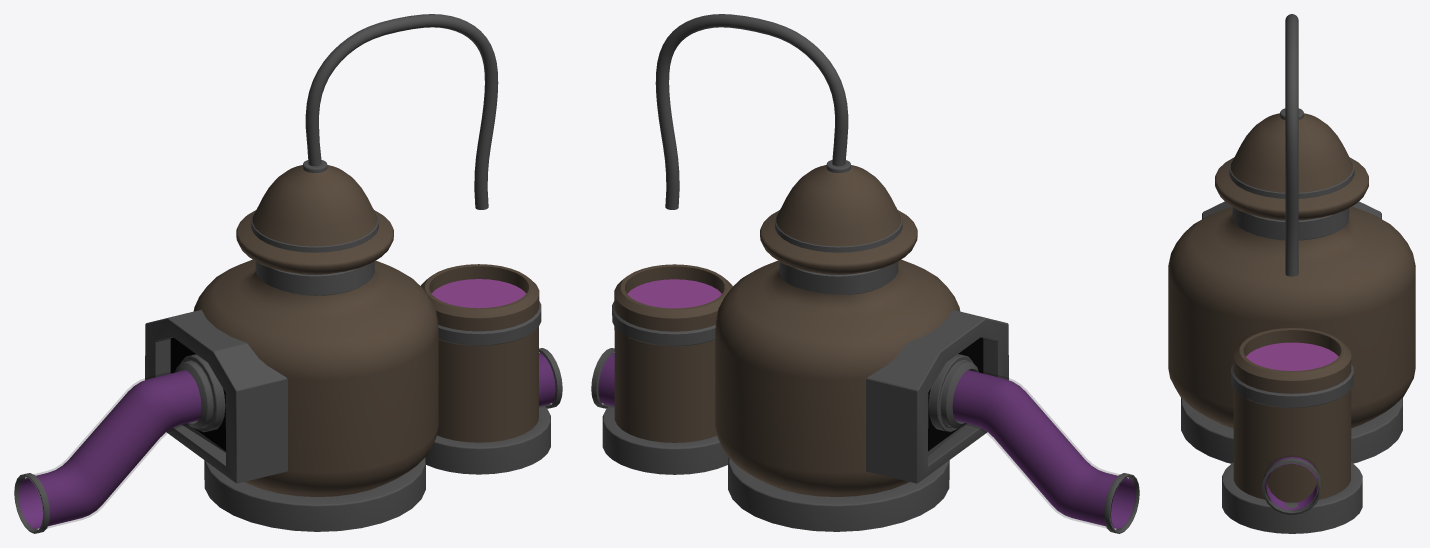
The model's file is Distiller.fbx.
3 views of the same model, side by side, from view 1: azimuth 30°, elevation 25°; view 2: azimuth 150°, elevation 25°; view 3: azimuth 270°, elevation 25° (orthographic). The views are drawn at different scales.
Visible parts, largest first — view 1: Machine_Distiller, Input_Pipe, Input_Belt, Output_Pipe; view 2: Machine_Distiller, Input_Pipe, Input_Belt, Output_Pipe; view 3: Machine_Distiller, Output_Pipe, Input_Belt.
Boxes of the visible parts, x1,y1,x2,y2 form: Machine_Distiller: (193, 14, 550, 531); Input_Pipe: (14, 354, 225, 533); Input_Belt: (145, 310, 287, 483); Output_Pipe: (539, 348, 562, 408); Machine_Distiller: (602, 14, 960, 531); Input_Pipe: (928, 354, 1139, 533); Input_Belt: (866, 310, 1008, 483); Output_Pipe: (591, 348, 614, 408); Machine_Distiller: (1168, 14, 1415, 533); Output_Pipe: (1262, 457, 1321, 514); Input_Belt: (1202, 201, 1381, 219).
Bounding box in the file's own units: 4.58 × 3.75 × 1.93.
